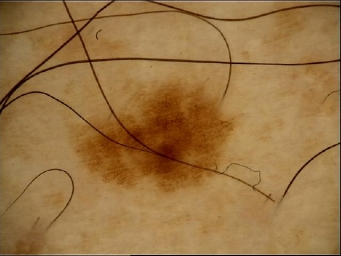nevus: (78, 84, 229, 191)
